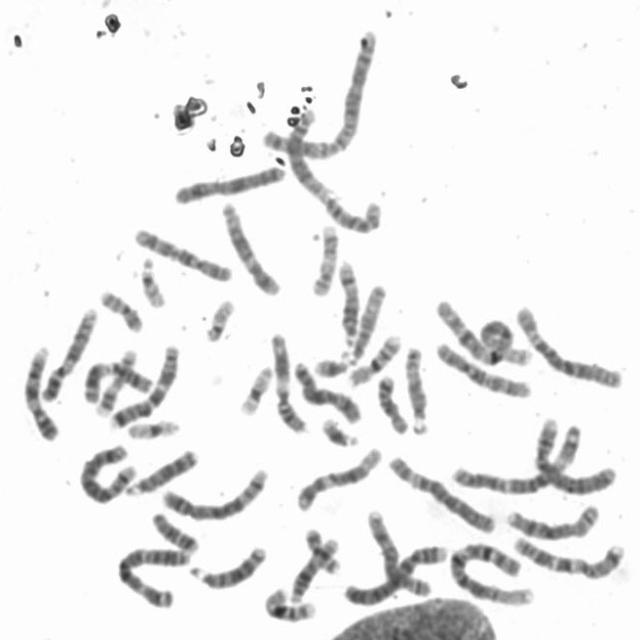A1: (430, 292, 536, 369), (445, 536, 537, 607)
A2: (257, 22, 381, 162), (280, 105, 383, 236)
A3: (444, 417, 586, 495), (112, 540, 193, 610)
B4: (529, 412, 619, 497), (340, 539, 449, 607)
B5: (157, 461, 271, 523), (74, 439, 138, 505)
C10: (430, 336, 534, 401), (128, 222, 234, 284)
C11: (265, 326, 309, 436), (79, 353, 150, 405)
C12: (291, 441, 386, 513), (217, 196, 284, 298)
C6: (511, 298, 626, 392), (382, 448, 499, 534)
C7: (105, 339, 183, 432), (508, 530, 626, 580)
C8: (362, 504, 433, 599), (502, 498, 605, 541)
C9: (38, 302, 100, 402), (18, 339, 62, 443)
D13: (120, 443, 202, 498), (184, 539, 269, 591)
D14: (285, 531, 342, 605), (333, 256, 362, 350)
D15: (339, 277, 389, 365), (401, 341, 432, 436)
E16: (344, 328, 404, 388), (259, 580, 319, 624)
E17: (89, 344, 140, 417), (307, 220, 341, 298)
E18: (147, 506, 202, 554), (372, 369, 410, 436)
F19: (234, 360, 276, 417), (123, 413, 183, 441)
F20: (95, 284, 146, 334), (301, 522, 344, 574)
G21: (316, 412, 362, 449), (309, 349, 352, 379)
G22: (200, 292, 238, 344), (136, 252, 168, 310)
X: (170, 160, 288, 207), (290, 356, 366, 425)
